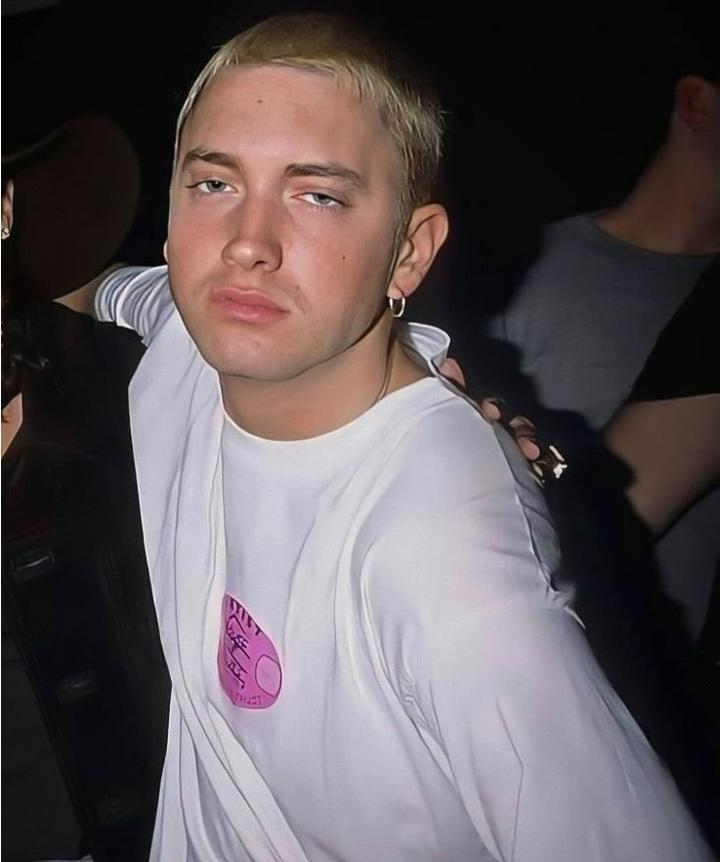Drunk: (173, 74, 395, 377)
